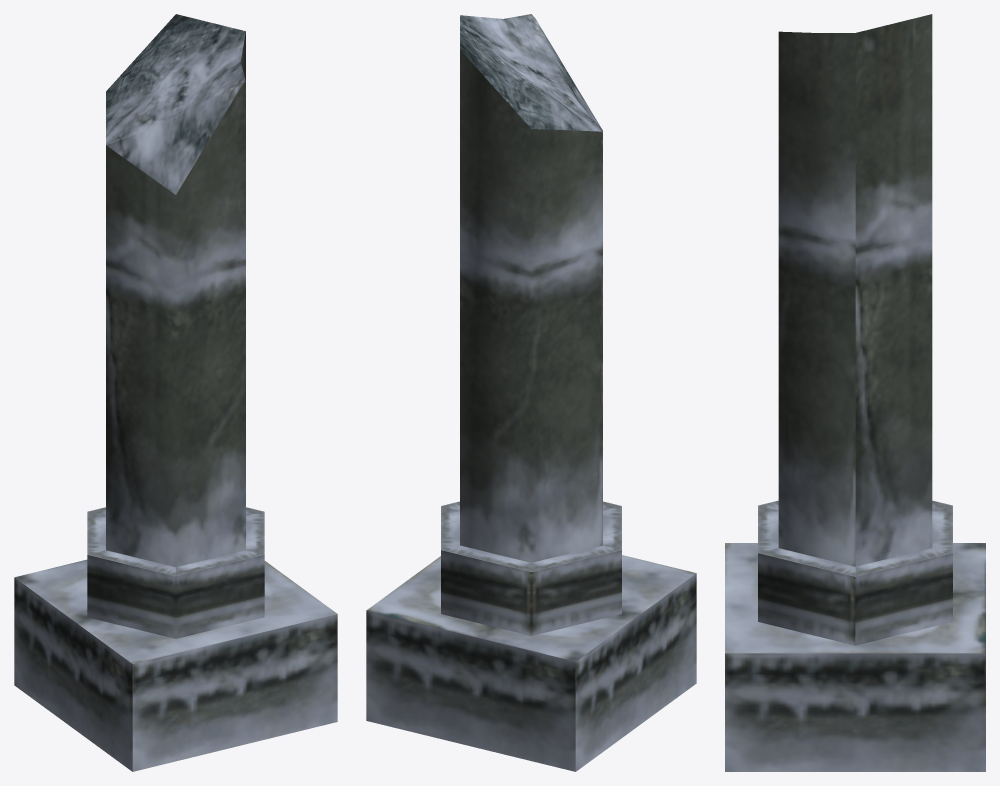
The model's file is SC_bingfengyiji_13.FBX.
3 views of the same model, side by side, from view 1: azimuth 30°, elevation 25°; view 2: azimuth 150°, elevation 25°; view 3: azimuth 270°, elevation 25° (orthographic). The views are drawn at different scales.
Parts seen in each view (by area): view 1: SC_bingfengyiji_13; view 2: SC_bingfengyiji_13; view 3: SC_bingfengyiji_13.
Boxes of the visible parts, left/top/right/bottom form: SC_bingfengyiji_13: left=14, top=14, right=337, bottom=771; SC_bingfengyiji_13: left=366, top=14, right=696, bottom=771; SC_bingfengyiji_13: left=725, top=14, right=985, bottom=771.
Bounding box in the file's own units: 170 × 518 × 170.
